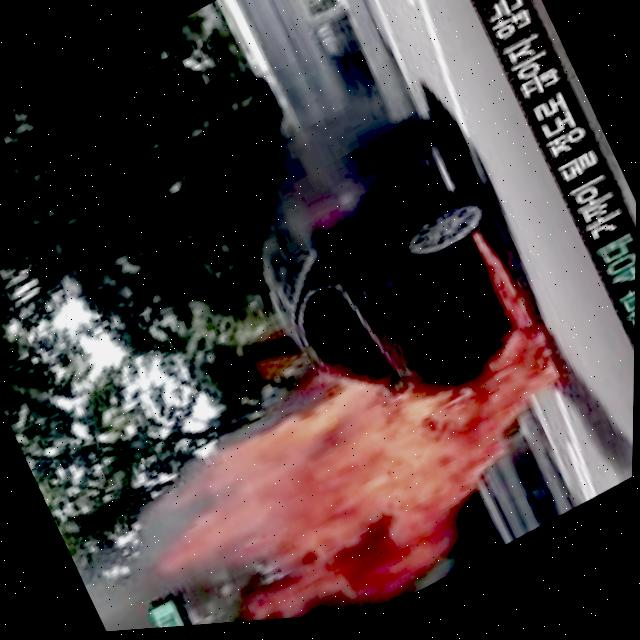Fire: (172, 301, 599, 630)
